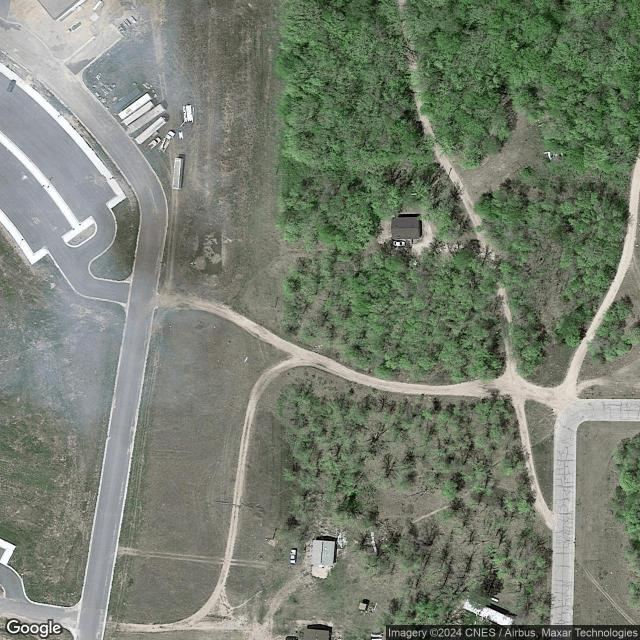Propane: (490, 596, 500, 603)
